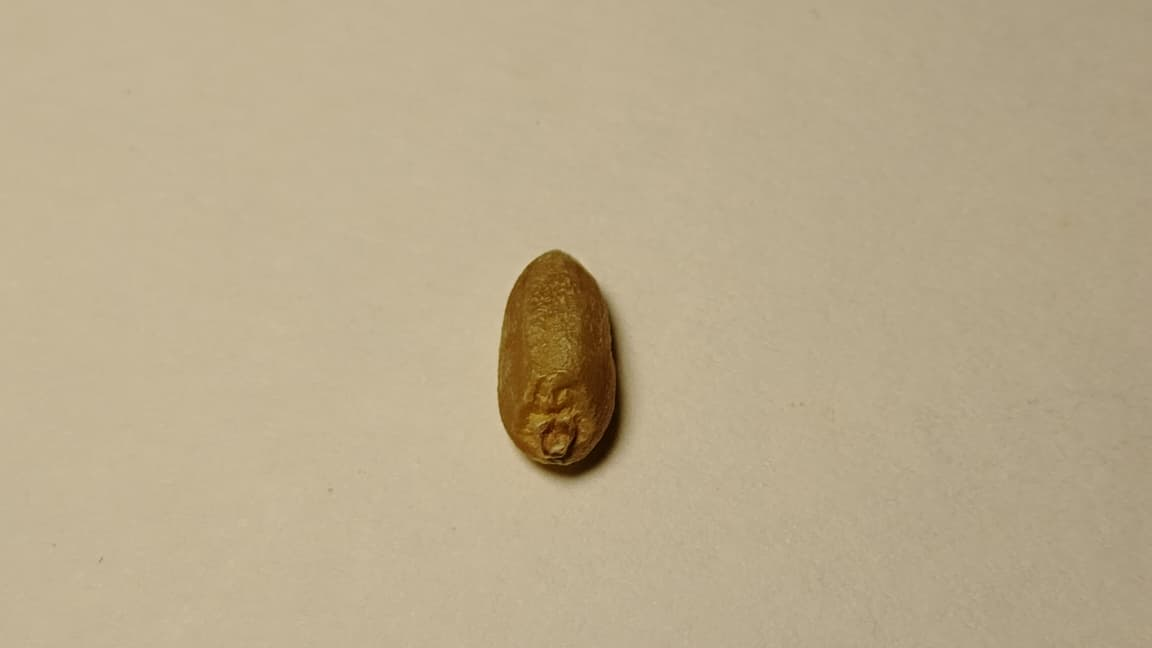healthy: (499, 251, 615, 463)
